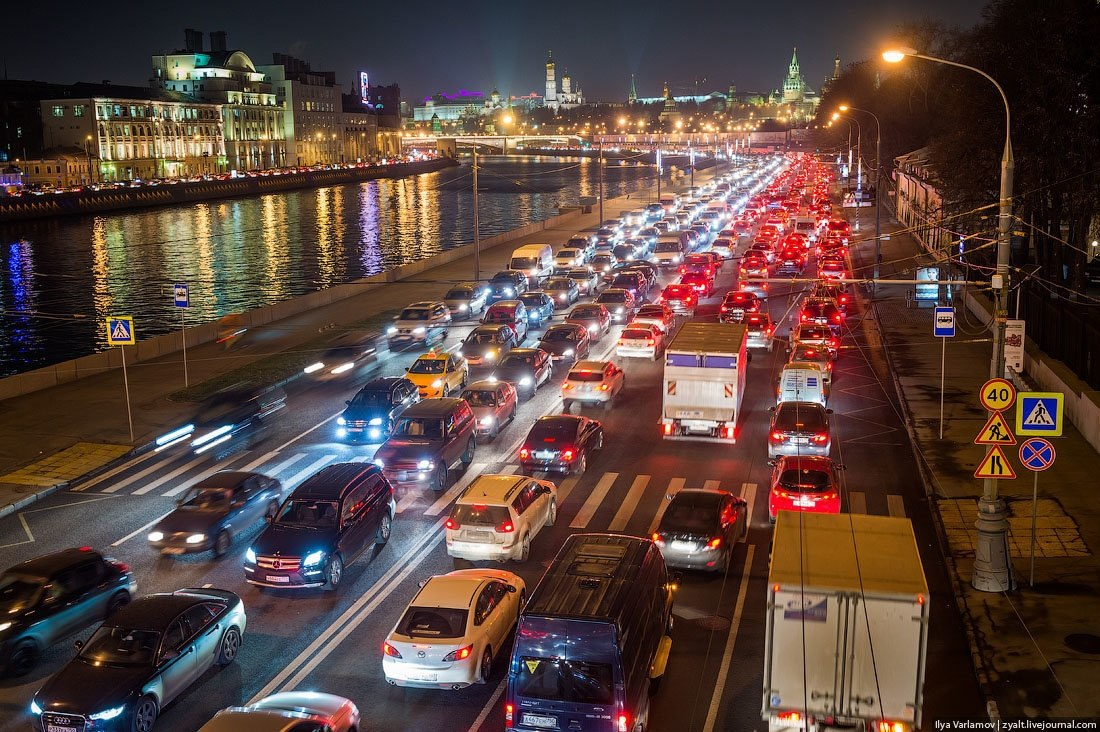sign: (1014, 389, 1067, 439), (969, 407, 1019, 449), (971, 442, 1017, 482), (1018, 436, 1057, 472), (978, 378, 1016, 414), (103, 313, 139, 346), (932, 303, 959, 339), (171, 280, 193, 312)
